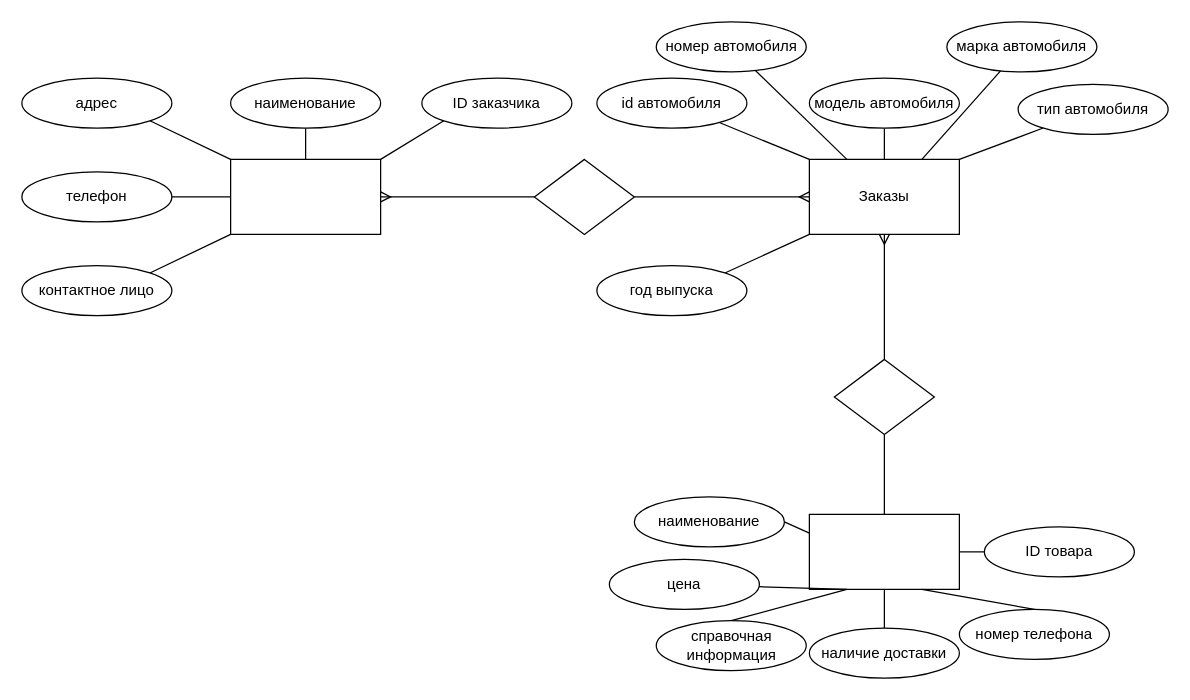
Image size: 1190x700. Some labels were removed from this diagram. Here are the shapes that lost their labels. From the top down, the centre of each, then its label:
At (305,196): "Заказчики".
At (583,196): "заказывает".
At (883,396): "связывает".
At (883,551): "Товары".
